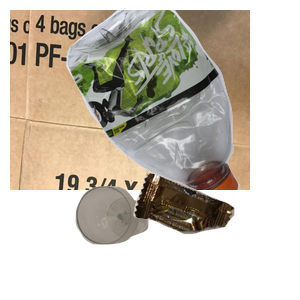cardboard: (10, 10, 250, 190)
glass: (73, 184, 214, 300)
plastic: (64, 10, 300, 190)
trash: (131, 171, 300, 300)
